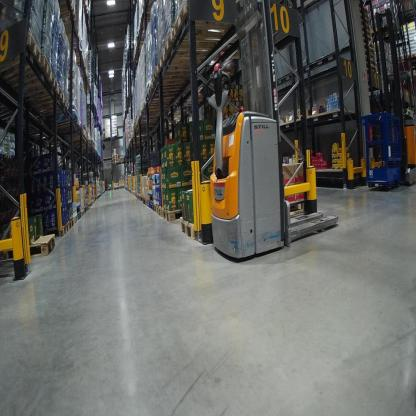forklift: (364, 45, 415, 189)
pallet: (162, 24, 233, 63), (173, 5, 234, 43), (1, 29, 45, 78), (3, 56, 52, 90), (13, 69, 59, 97), (156, 48, 204, 74), (16, 86, 65, 111), (20, 231, 54, 263), (153, 65, 204, 86), (175, 216, 210, 245), (162, 201, 203, 225), (31, 99, 71, 119), (147, 80, 186, 99), (51, 3, 79, 26), (47, 111, 78, 127), (38, 223, 70, 238), (65, 216, 75, 233), (156, 203, 164, 220), (149, 198, 155, 213), (74, 210, 81, 221), (72, 213, 77, 226), (80, 209, 85, 222), (154, 200, 157, 214)
pallet_truck: (198, 0, 340, 263)
